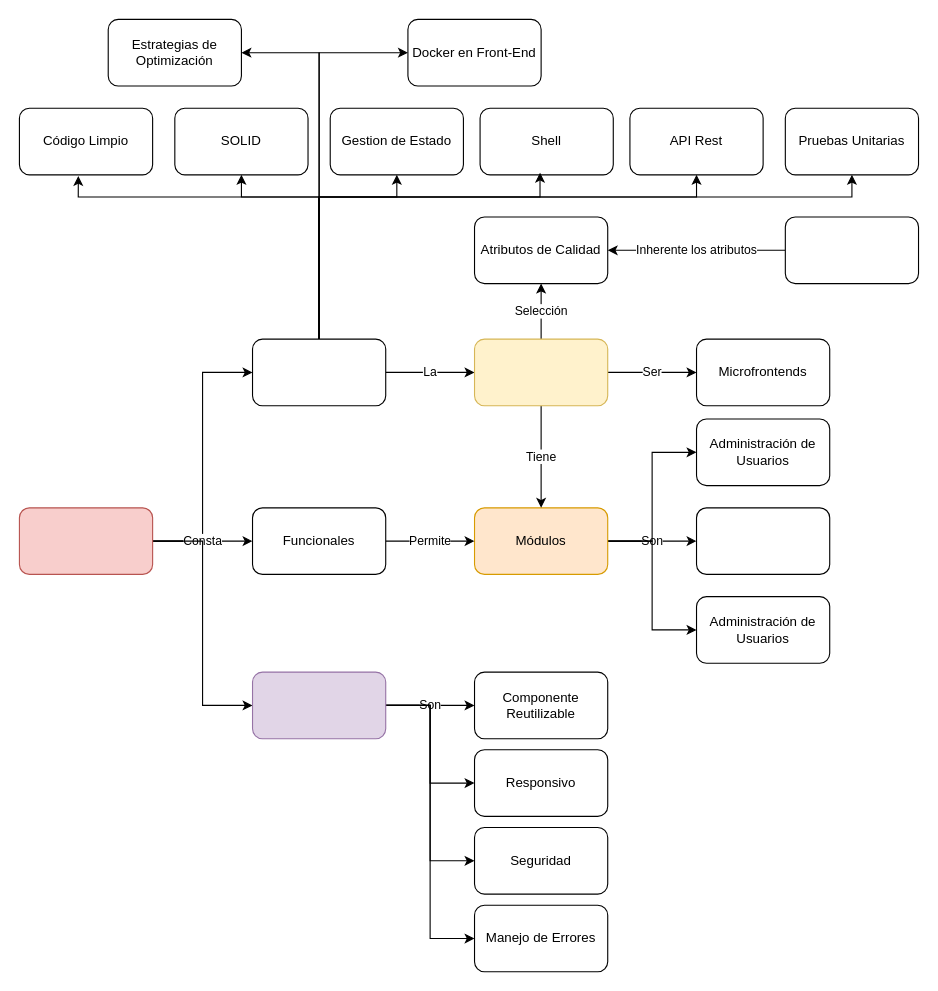
Image size: 938x991. Some labels were removed from this diagram. Each missing label, with the centre of its shape:
"Arquitectura" goes at (x=540, y=372).
"Gestión de Tareas" goes at (x=762, y=540).
"No funcionales" goes at (x=318, y=705).
"Proyecto" goes at (x=85, y=540).
"Restrcciones" goes at (x=318, y=372).
"Selección del patrón de diseño" goes at (x=851, y=250).
